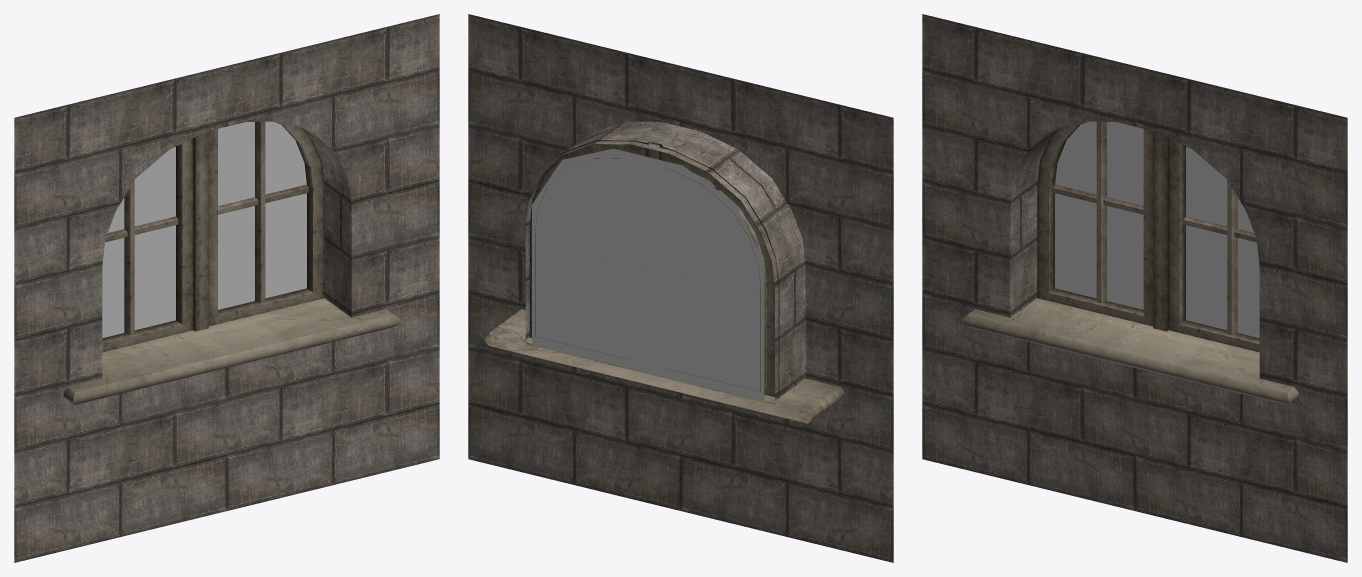
File: exterior_walls_bare_window_01_unlit.DAE
The picture shows the model from 3 angles, left to right: view 1: azimuth 30°, elevation 25°; view 2: azimuth 150°, elevation 25°; view 3: azimuth 330°, elevation 25°; orthographic projection.
Parts seen in each view (by area): view 1: Box021, mansionbase_window_frame002, mansionbase_window_blue001; view 2: Box021, mansionbase_window_blue001, mansionbase_window_frame002; view 3: Box021, mansionbase_window_frame002, mansionbase_window_blue001.
Boxes of the visible parts, box(x1,y1,x2,y2) form: Box021: box(14, 14, 439, 562); mansionbase_window_frame002: box(63, 121, 400, 404); mansionbase_window_blue001: box(102, 121, 306, 337); Box021: box(468, 14, 893, 562); mansionbase_window_blue001: box(532, 148, 764, 401); mansionbase_window_frame002: box(484, 140, 844, 423); Box021: box(922, 14, 1347, 562); mansionbase_window_frame002: box(962, 121, 1298, 404); mansionbase_window_blue001: box(1055, 121, 1259, 337).
Bounding box in the file's own units: 4 × 4 × 0.6962.
